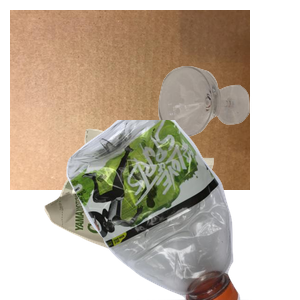cardboard: (10, 10, 250, 190)
glass: (156, 64, 300, 194)
plastic: (64, 120, 300, 300)
trash: (42, 126, 249, 300)
